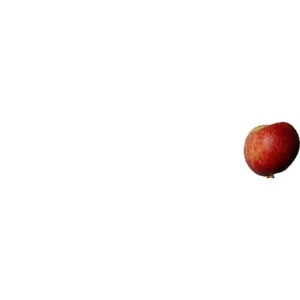nectarina: (244, 122, 300, 181)
